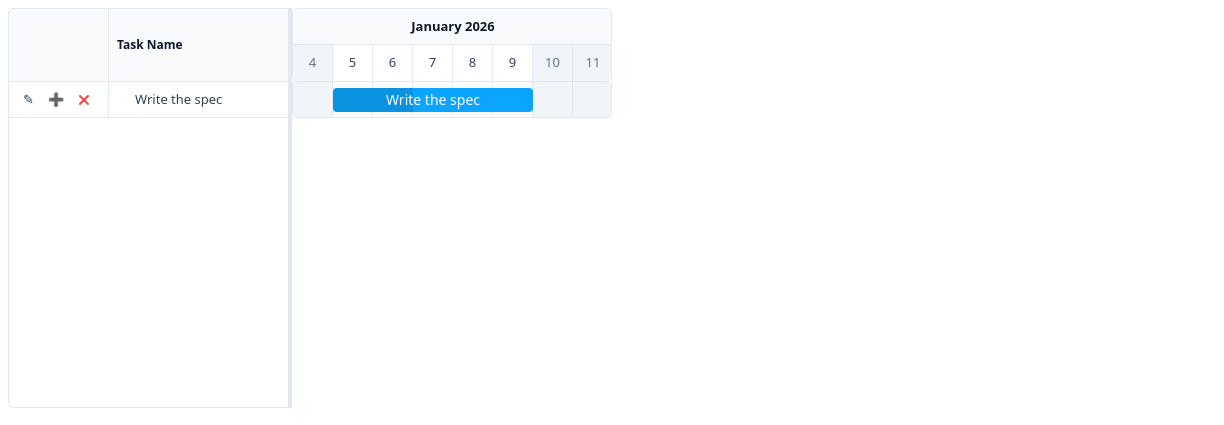
Test: bar tooltip closing guards › stays open when the pointer sits on a fractional bar edge
Hover over the cell with class "am-gantt-bar-task": (433, 100) [333,88,533,112]
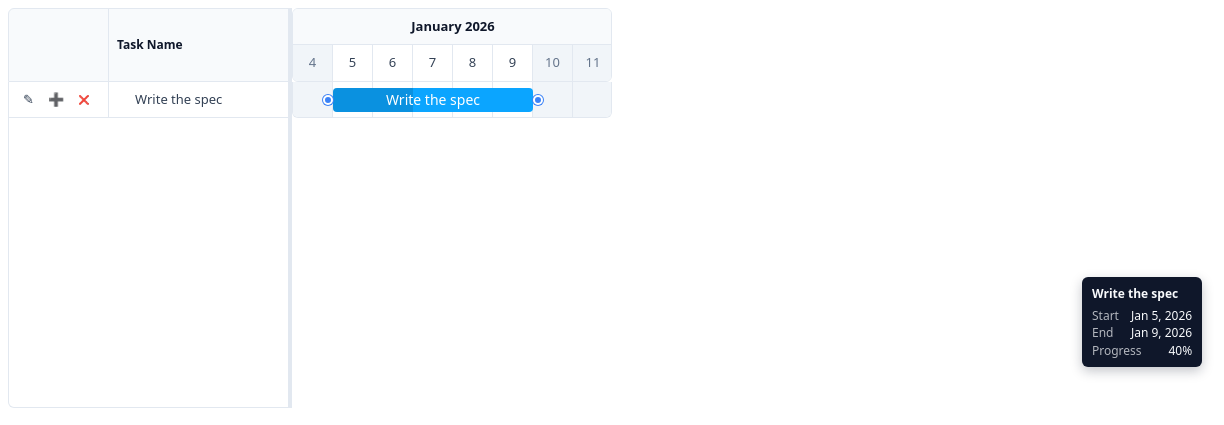
Expected: the tooltip is shown, [1082,277,1202,367]
